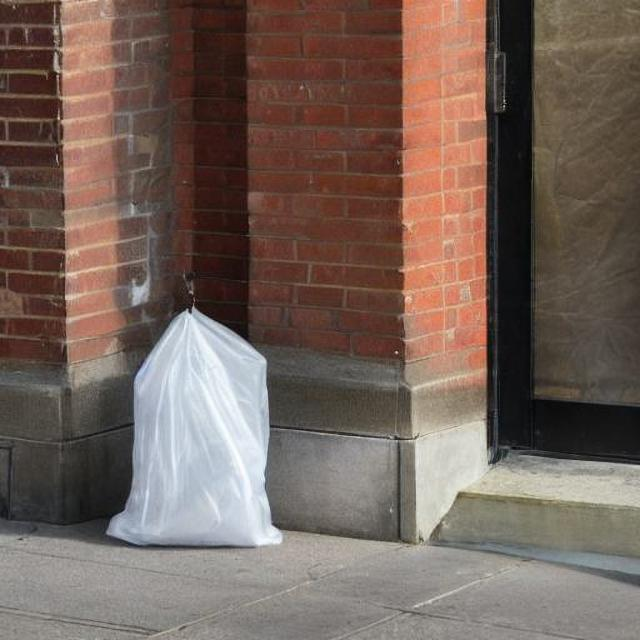plastic bag: (110, 296, 273, 542)
